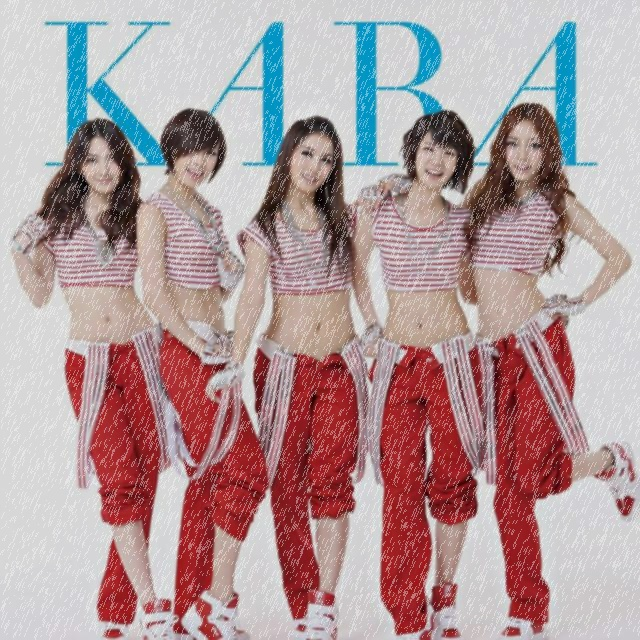pessoa: (374, 95, 639, 639), (196, 111, 392, 639), (5, 113, 196, 640), (130, 102, 276, 639), (348, 106, 486, 640)
